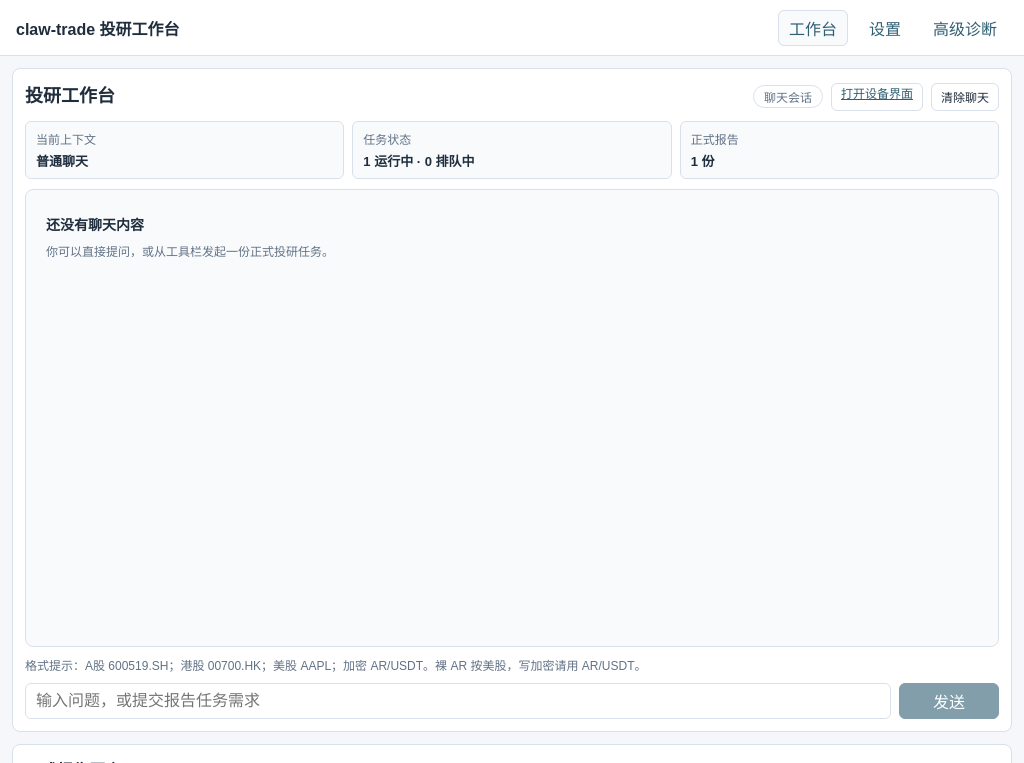
Test: home page › inserts a worker mention from the normal chat composer @ picker
The width and height of the screenshot is (1024, 763).
Expected: the button "组合经理" is not shown
Type "@" into the field named "输入消息" at (458,701), box [25, 683, 891, 719]
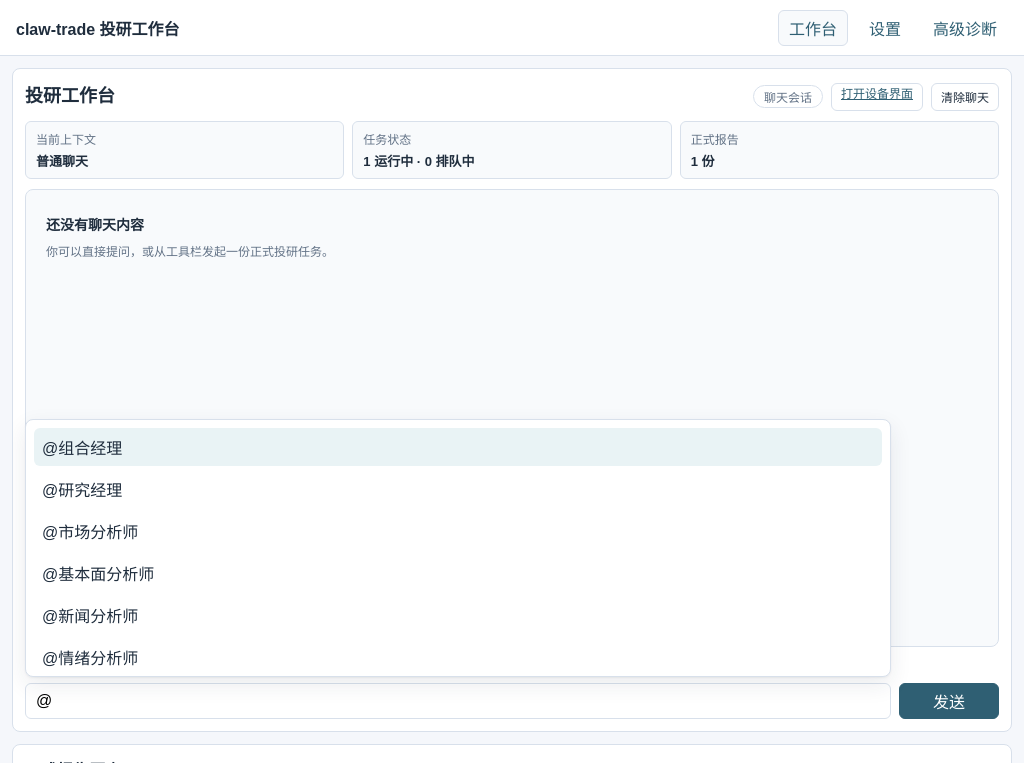
Click the option "@市场分析师" at (98,532), box [34, 512, 882, 550]
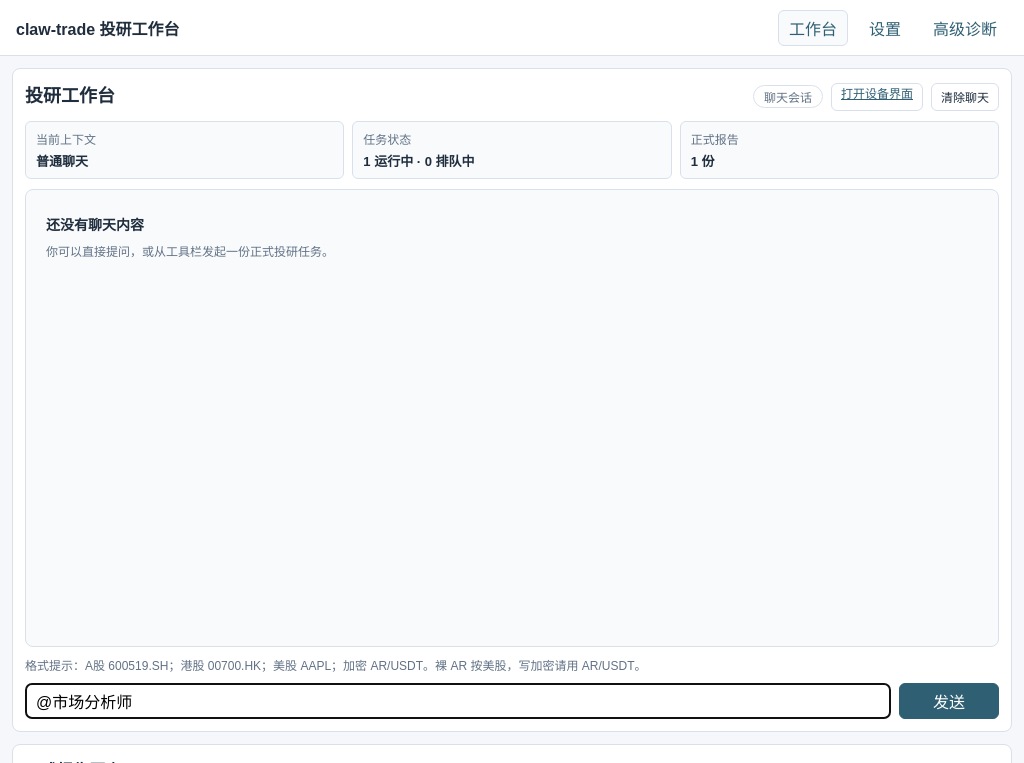
Now the field named "输入消息" holds "@市场分析师 ", box [25, 683, 891, 719]
